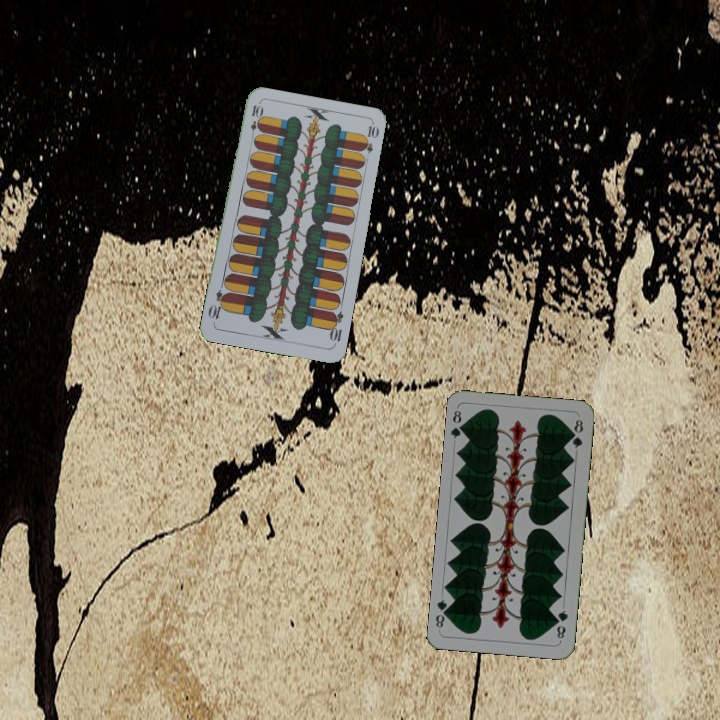E10: (325, 308, 346, 348), (246, 101, 263, 142)
G8: (447, 406, 468, 441), (552, 606, 571, 641)
